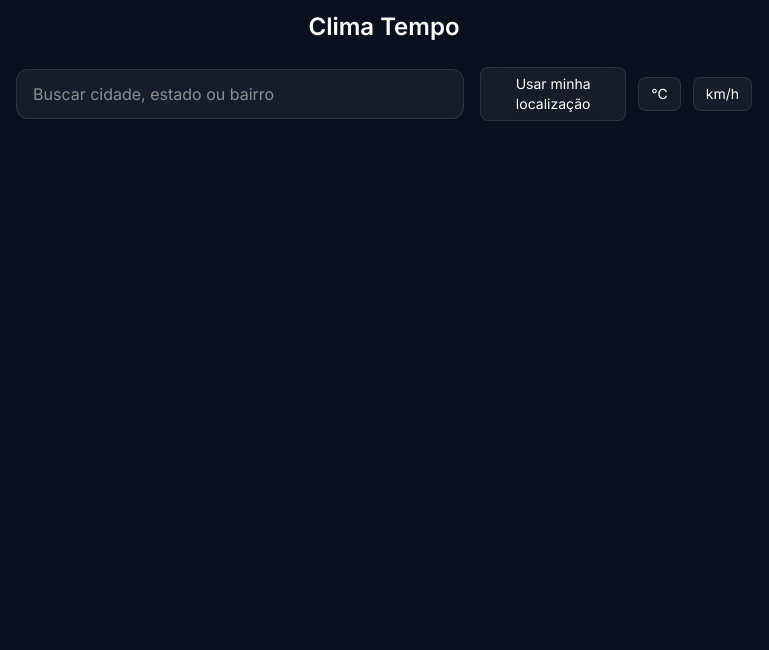
Test case: App › searches, selects a location and displays the weather
The width and height of the screenshot is (769, 650).
Type "São Paulo" into the dropdown at (240,94), box [16, 69, 464, 119]
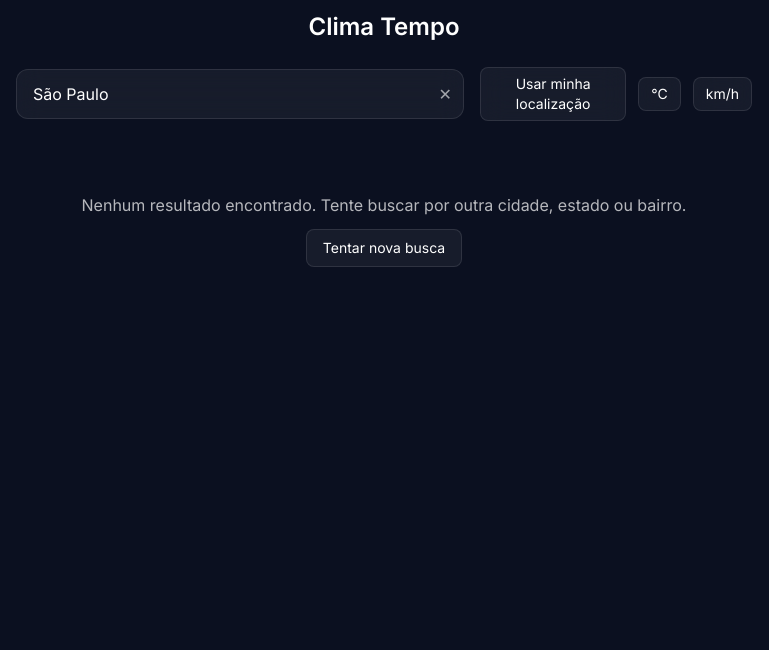
Press Enter in the dropdown, box [16, 69, 464, 119]
Wait 300 ms
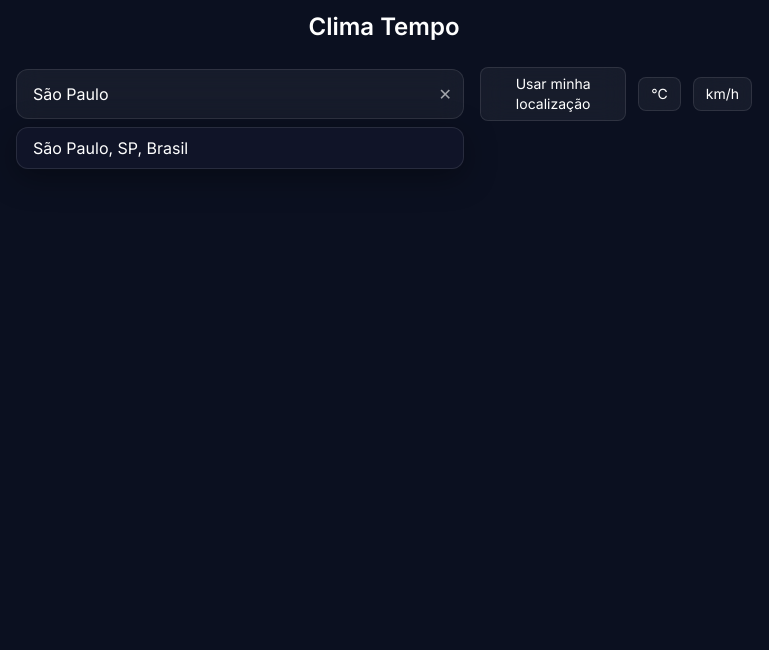
Now the option "São Paulo, SP, Brasil" is shown
Click the option "São Paulo, SP, Brasil" at (111,148), box [33, 138, 188, 158]
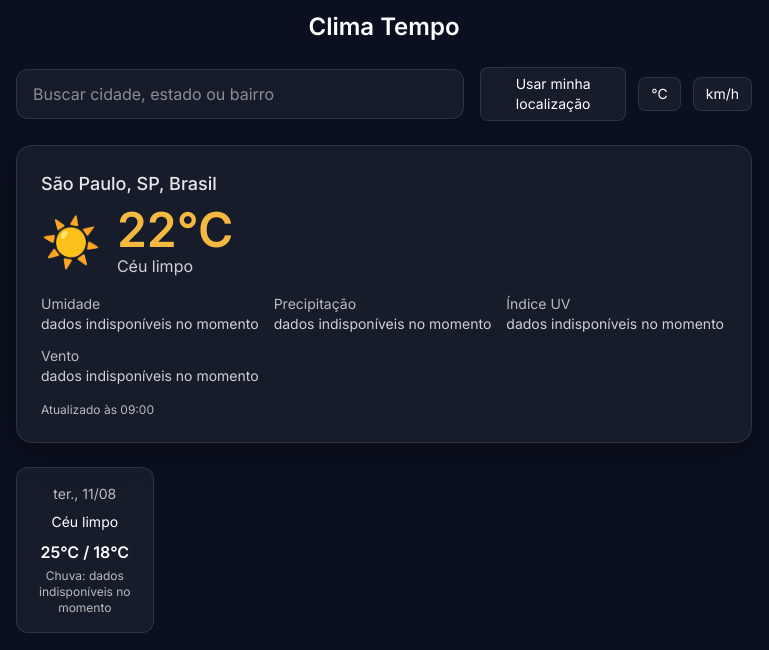
Now the text "22°C" is shown, box [117, 206, 233, 254]
